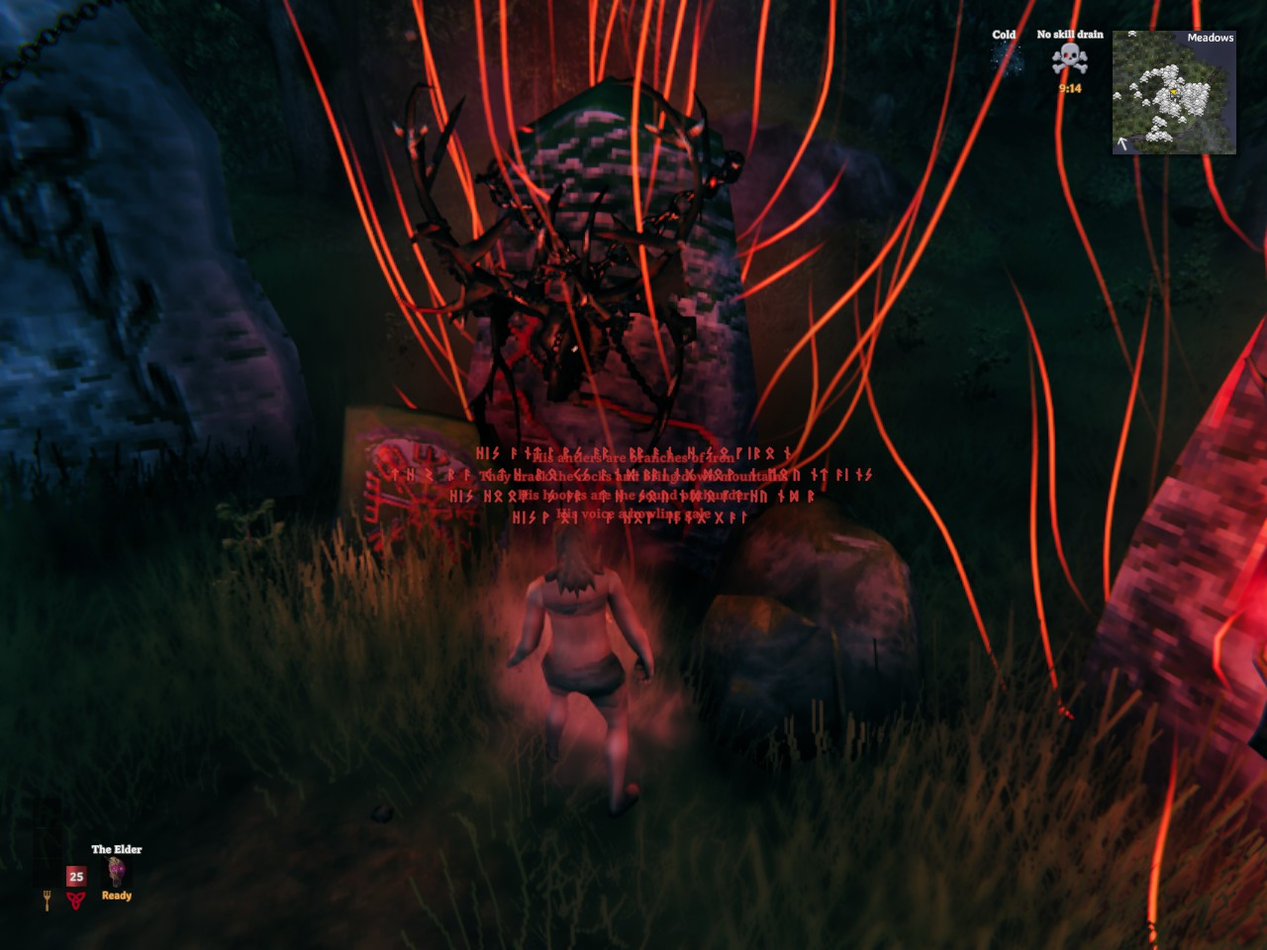Rune Stone: (341, 407, 483, 553)
